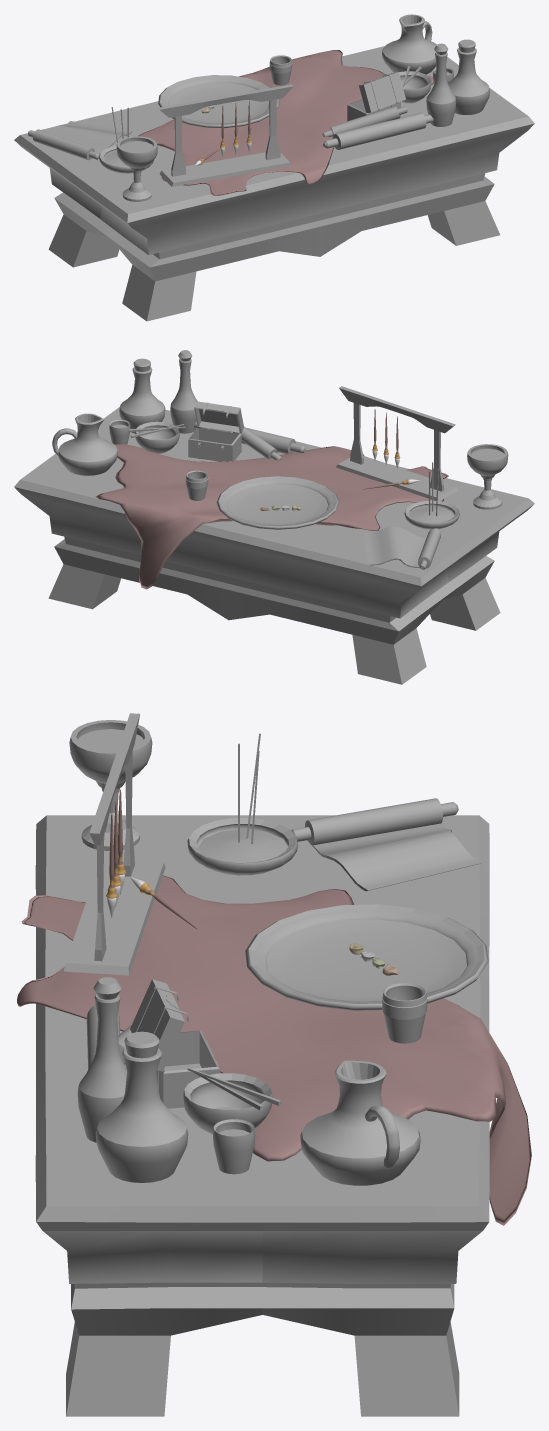
File: oracle_desk.fbx
The picture shows the model from 3 angles, top to bottom: view 1: azimuth 30°, elevation 25°; view 2: azimuth 150°, elevation 25°; view 3: azimuth 270°, elevation 25°; orthographic projection. The views are drawn at different scales.
Parts seen in each view (by area): view 1: pCube3, pPlane1, pCube6, polySurface755, polySurface2, pCylinder8, pCylinder1, pCylinder10, polySurface20, pCylinder2, pCylinder7, pCylinder11 (+3 smaller); view 2: pCube3, pPlane1, polySurface755, pCube6, polySurface20, polySurface2, pCylinder8, pCylinder1, pCylinder2, pCylinder7, polySurface21, polySurface1 (+5 smaller); view 3: pCube3, pPlane1, polySurface755, pCylinder8, pCube6, polySurface2, pCylinder1, polySurface20, pCylinder2, pCylinder7, polySurface21, polySurface1 (+4 smaller).
Boxes of the visible parts, left/top/right/bottom form: pCube3: left=14, top=46, right=534, bottom=321; pPlane1: left=137, top=50, right=433, bottom=195; pCube6: left=158, top=84, right=293, bottom=186; polySurface755: left=158, top=75, right=279, bottom=128; polySurface2: left=382, top=14, right=436, bottom=74; pCylinder8: left=28, top=121, right=132, bottom=160; pCylinder1: left=448, top=39, right=489, bottom=114; pCylinder10: left=323, top=112, right=433, bottom=149; polySurface20: left=347, top=72, right=405, bottom=120; pCylinder2: left=426, top=43, right=456, bottom=126; pCylinder7: left=116, top=136, right=157, bottom=201; pCylinder11: left=322, top=106, right=407, bottom=137; pCube3: left=14, top=407, right=534, bottom=684; pPlane1: left=95, top=444, right=448, bottom=589; polySurface755: left=216, top=476, right=338, bottom=529; pCube6: left=336, top=386, right=458, bottom=500; polySurface20: left=188, top=401, right=243, bottom=461; polySurface2: left=52, top=413, right=118, bottom=475; pCylinder8: left=363, top=526, right=441, bottom=569; pCylinder1: left=119, top=358, right=165, bottom=433; pCylinder2: left=170, top=350, right=197, bottom=433; pCylinder7: left=467, top=444, right=508, bottom=509; polySurface21: left=135, top=421, right=179, bottom=453; polySurface1: left=404, top=500, right=459, bottom=529; pCube3: left=35, top=815, right=489, bottom=1416; pPlane1: left=17, top=875, right=531, bottom=1225; polySurface755: left=245, top=904, right=488, bottom=1010; pCylinder8: left=291, top=798, right=481, bottom=891; pCube6: left=64, top=713, right=165, bottom=975; polySurface2: left=300, top=1060, right=420, bottom=1185; pCylinder1: left=95, top=1031, right=188, bottom=1182; polySurface20: left=130, top=979, right=219, bottom=1108; pCylinder2: left=77, top=977, right=126, bottom=1142; pCylinder7: left=69, top=720, right=152, bottom=850; polySurface21: left=183, top=1073, right=272, bottom=1134; polySurface1: left=187, top=818, right=298, bottom=875.
Bounding box in the file's own units: 12.39 × 5.63 × 6.77.
